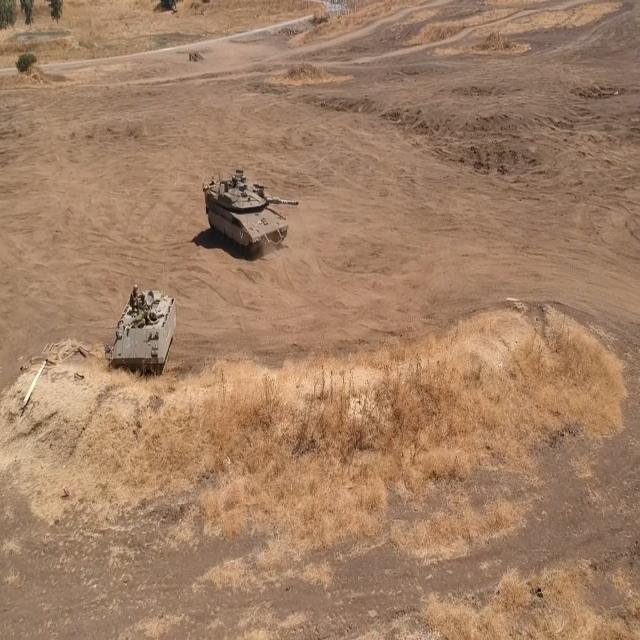Tanks: (200, 165, 310, 257)
